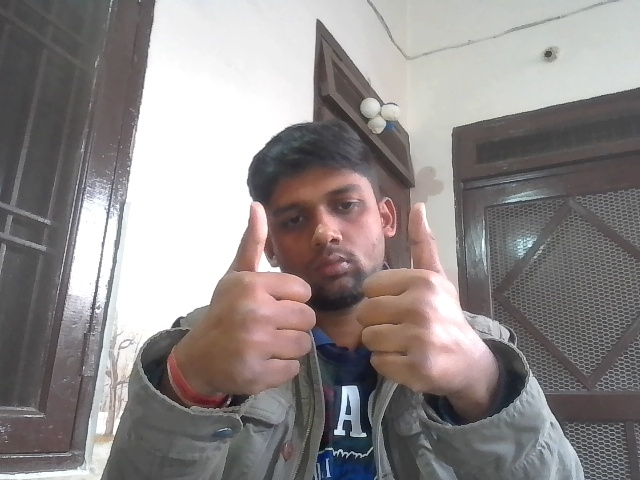Excellent: (181, 198, 479, 406)
